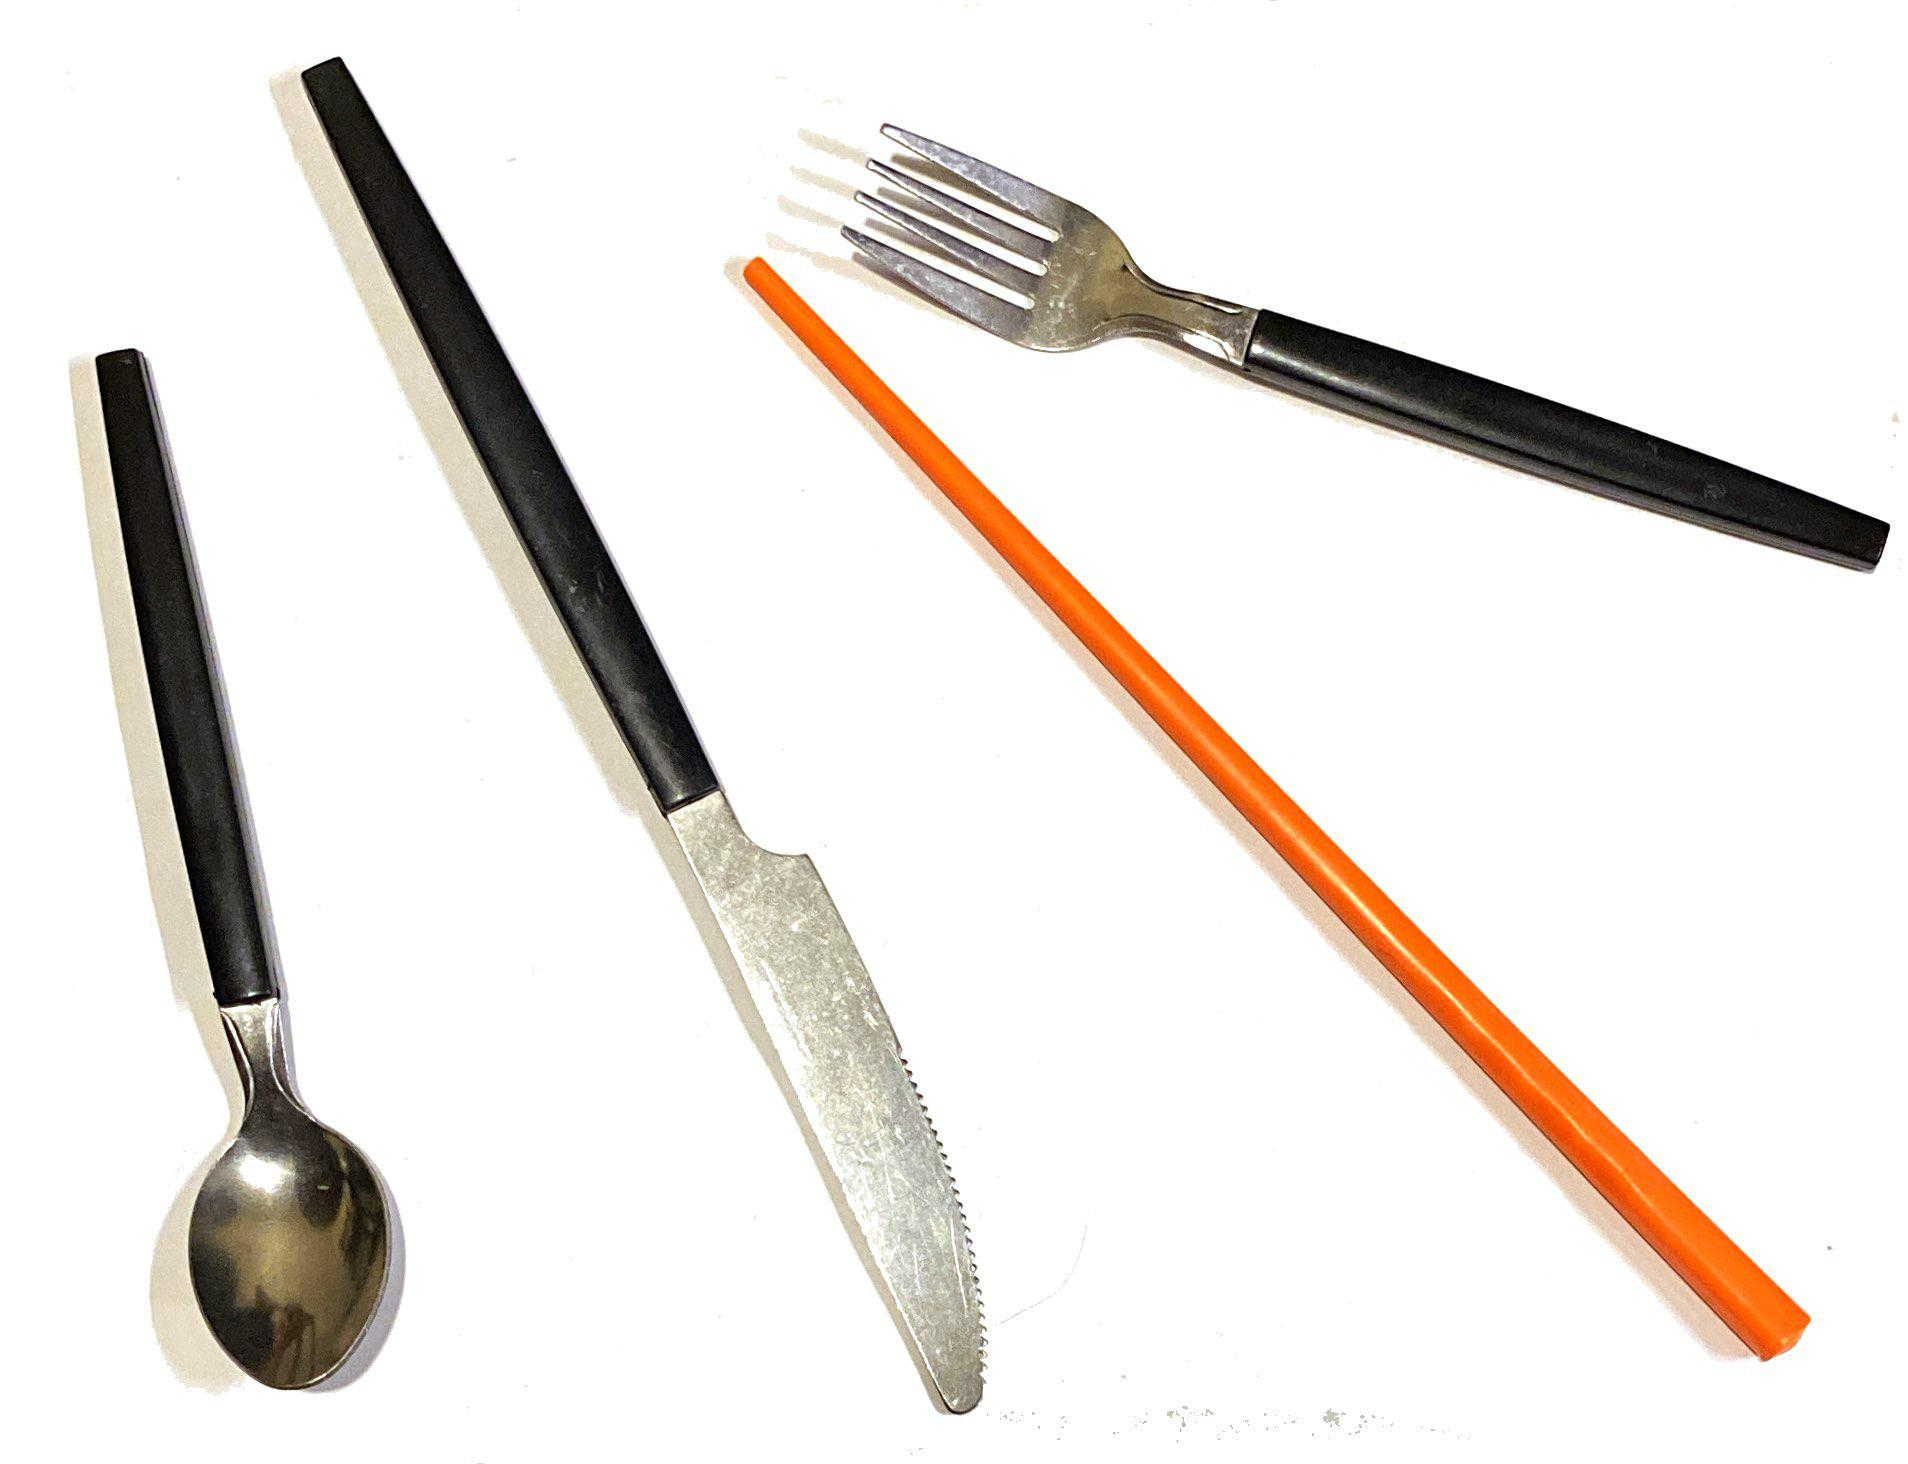Chopstick: (729, 235, 1848, 1402)
Fork: (826, 68, 1899, 586)
Knife: (264, 51, 1006, 1442)
Spoon: (35, 312, 414, 1409)
